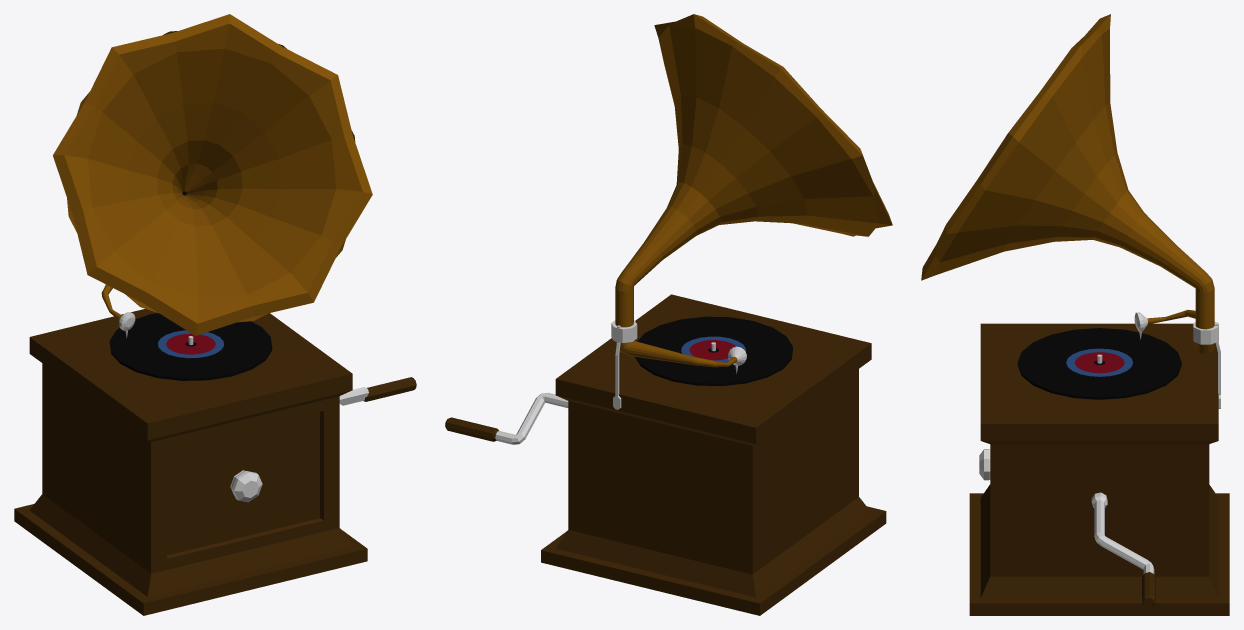
Rendered from gramophone.fbx.
3 renders of one model, left to right at view 1: azimuth 30°, elevation 25°; view 2: azimuth 150°, elevation 25°; view 3: azimuth 270°, elevation 25°, orthographic. The views are drawn at different scales.
Parts seen in each view (by area): view 1: gramophone2_stationary_horn5, record, handle; view 2: gramophone2_stationary_horn5, record, handle; view 3: gramophone2_stationary_horn5, record, handle.
Part boxes in pixels (<box>): gramophone2_stationary_horn5: <box>14,14,372,615</box>; record: <box>109,313,272,380</box>; handle: <box>339,377,416,405</box>; gramophone2_stationary_horn5: <box>541,14,892,615</box>; record: <box>635,316,792,385</box>; handle: <box>445,392,568,444</box>; gramophone2_stationary_horn5: <box>921,14,1229,615</box>; record: <box>1017,328,1181,399</box>; handle: <box>1091,492,1155,607</box>.
Size of the model in its own units: 2.39 by 3.06 by 1.61.
